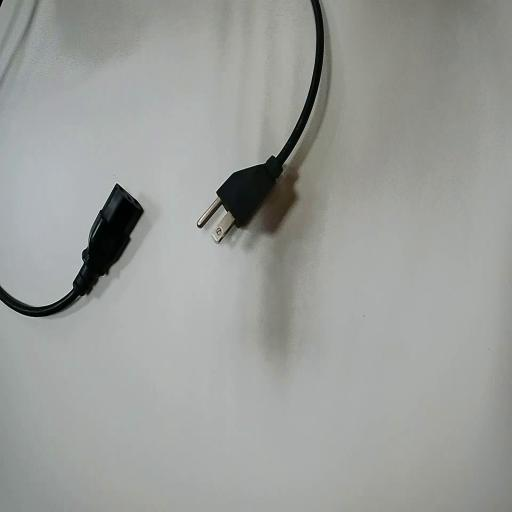wire: (201, 0, 323, 231), (0, 186, 142, 315)
